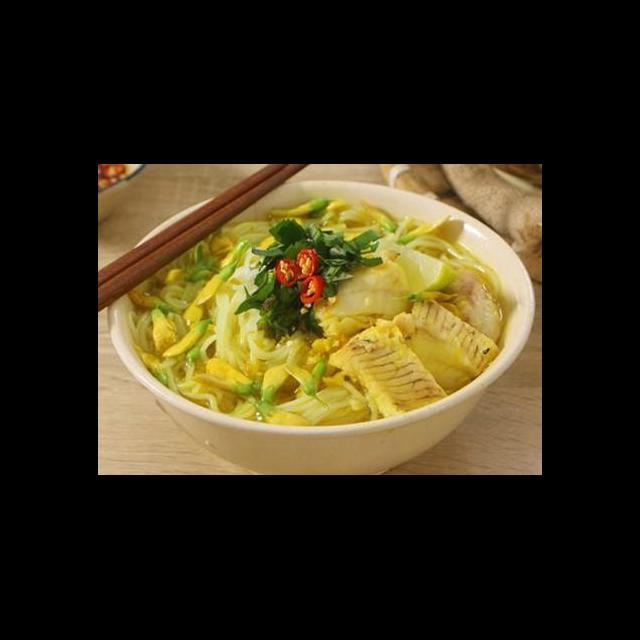bun: (123, 276, 257, 422), (199, 248, 295, 372), (254, 382, 373, 428)
bun ca: (101, 190, 535, 475)
ca: (323, 318, 451, 427), (383, 289, 505, 382)
rau ram: (230, 214, 386, 344)
